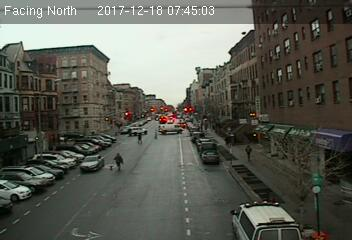car: (79, 154, 105, 172), (202, 149, 220, 163)
pedestrian: (240, 144, 254, 164)
police: (229, 199, 305, 240)
